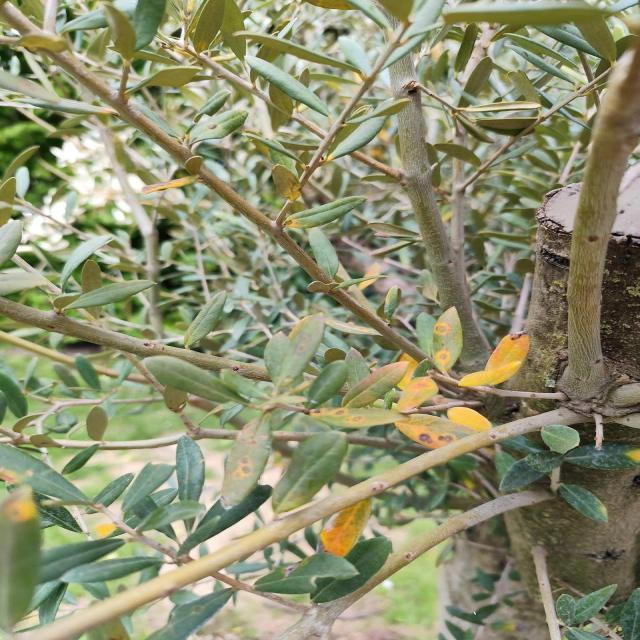OlivePeacockSpot: (221, 414, 272, 506), (146, 588, 230, 640), (458, 332, 530, 387), (394, 414, 477, 449), (320, 500, 370, 558), (344, 362, 408, 407), (284, 196, 366, 229), (310, 408, 408, 428), (432, 306, 460, 374), (190, 110, 245, 144), (397, 376, 438, 412), (448, 407, 491, 432), (271, 164, 298, 203)
